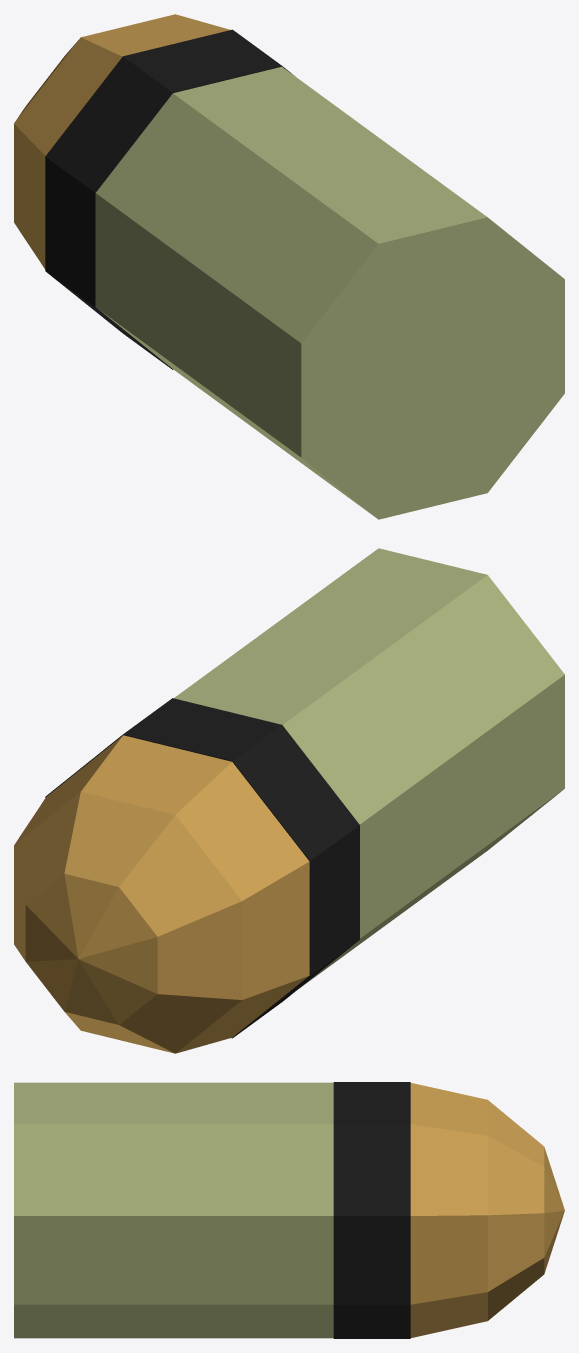
Rendered from ce_ammo_grenade_he_a.obj.
3 renders of one model, top to bottom at view 1: azimuth 30°, elevation 25°; view 2: azimuth 150°, elevation 25°; view 3: azimuth 270°, elevation 25°, orthographic. The views are drawn at different scales.
Visible parts, largest first — view 1: ce_ammo_grenade_he_a_0, ce_ammo_grenade_he_a_1, ce_ammo_grenade_he_a_2; view 2: ce_ammo_grenade_he_a_0, ce_ammo_grenade_he_a_3, ce_ammo_grenade_he_a_2, ce_ammo_grenade_he_a_1, ce_ammo_grenade_he_a_4; view 3: ce_ammo_grenade_he_a_0, ce_ammo_grenade_he_a_1, ce_ammo_grenade_he_a_2, ce_ammo_grenade_he_a_3, ce_ammo_grenade_he_a_4.
Boxes of the visible parts, x1,y1,x2,y2 form: ce_ammo_grenade_he_a_0: (95,66,564,519); ce_ammo_grenade_he_a_1: (45,29,294,369); ce_ammo_grenade_he_a_2: (14,14,230,269); ce_ammo_grenade_he_a_0: (174,548,564,987); ce_ammo_grenade_he_a_3: (14,792,242,1053); ce_ammo_grenade_he_a_2: (14,735,309,1053); ce_ammo_grenade_he_a_1: (45,698,359,1038); ce_ammo_grenade_he_a_4: (25,873,157,1024); ce_ammo_grenade_he_a_0: (14,1082,333,1338); ce_ammo_grenade_he_a_1: (333,1082,410,1338); ce_ammo_grenade_he_a_2: (410,1083,487,1337); ce_ammo_grenade_he_a_3: (488,1100,544,1320); ce_ammo_grenade_he_a_4: (544,1147,564,1273).
Bounding box in the file's own units: 0.2414 × 0.2414 × 0.56.
